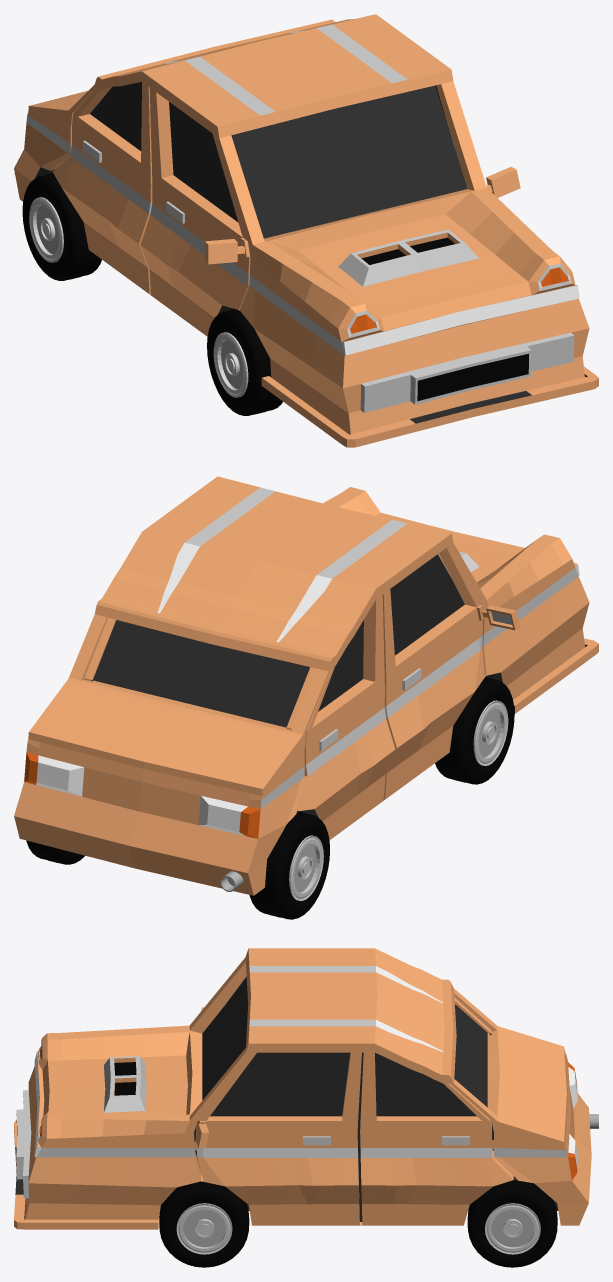
3 renders of one model, top to bottom at view 1: azimuth 30°, elevation 25°; view 2: azimuth 150°, elevation 25°; view 3: azimuth 270°, elevation 25°, orthographic. The views are drawn at different scales.
Visible parts, largest first — view 1: BODY, WHEEL.004, WHEEL.001; view 2: BODY, WHEEL.004, WHEEL.001, WHEEL.002; view 3: BODY, WHEEL.002, WHEEL.003.
Boxes of the visible parts, x1,y1,x2,y2 form: BODY: (14,14,598,447); WHEEL.004: (22,173,101,280); WHEEL.001: (207,309,282,415); BODY: (14,476,598,895); WHEEL.004: (249,811,329,919); WHEEL.001: (435,677,514,784); WHEEL.002: (26,840,84,864); BODY: (14,948,591,1229); WHEEL.002: (467,1180,557,1267); WHEEL.003: (159,1181,249,1267).
Bounding box in the file's own units: 131 × 106 × 254.
